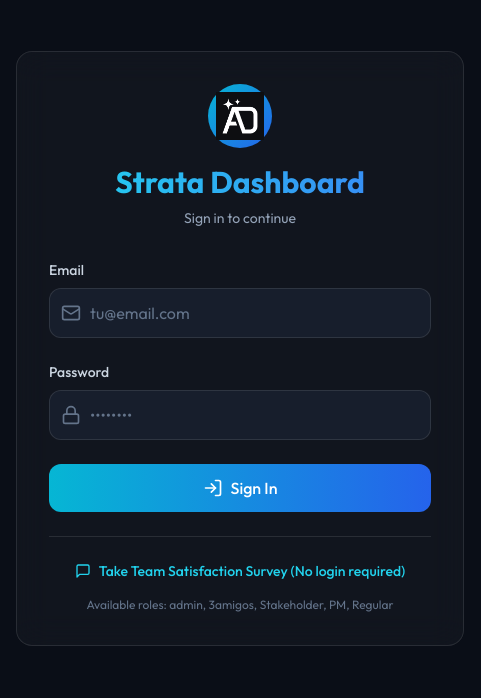
Test case: Login › debe mostrar error cuando el login falla
Step 1. Type "test@example.com" into the field labelled "Email" → (240, 312), box left=49, top=288, right=431, bottom=338
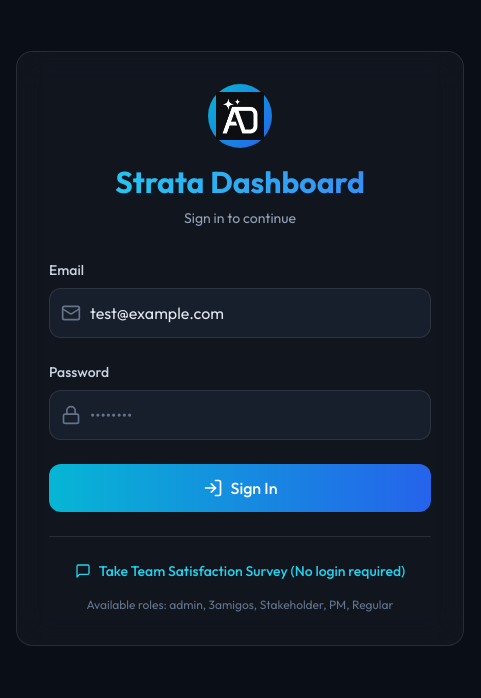
Step 2. Type "wrongpassword" into the password field labelled "Password" → (240, 414), box left=49, top=390, right=431, bottom=440
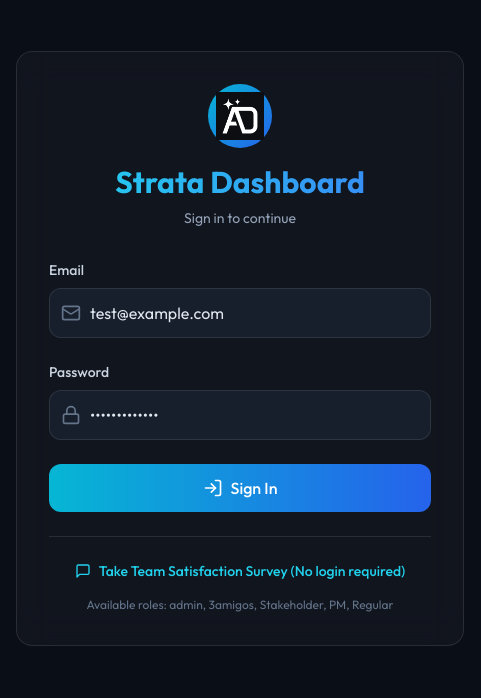
Step 3. Click the button "Sign In" → (240, 488), box left=49, top=464, right=431, bottom=512
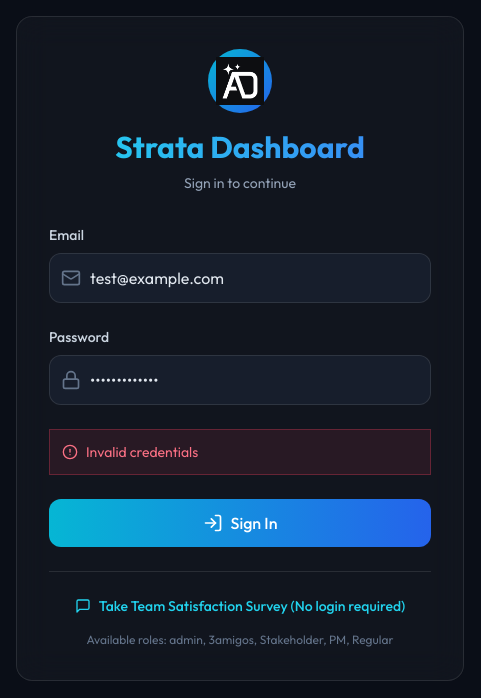
Expected: the text "Invalid credentials" is shown, left=86, top=442, right=198, bottom=462
